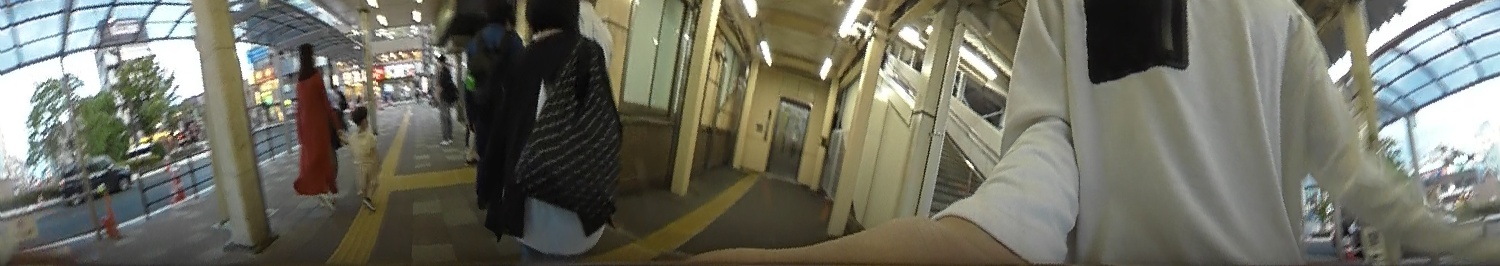difficult_person: (410, 84, 423, 106)
person: (513, 0, 627, 260), (467, 0, 531, 237), (281, 36, 350, 214), (340, 98, 391, 209), (423, 46, 462, 147)
